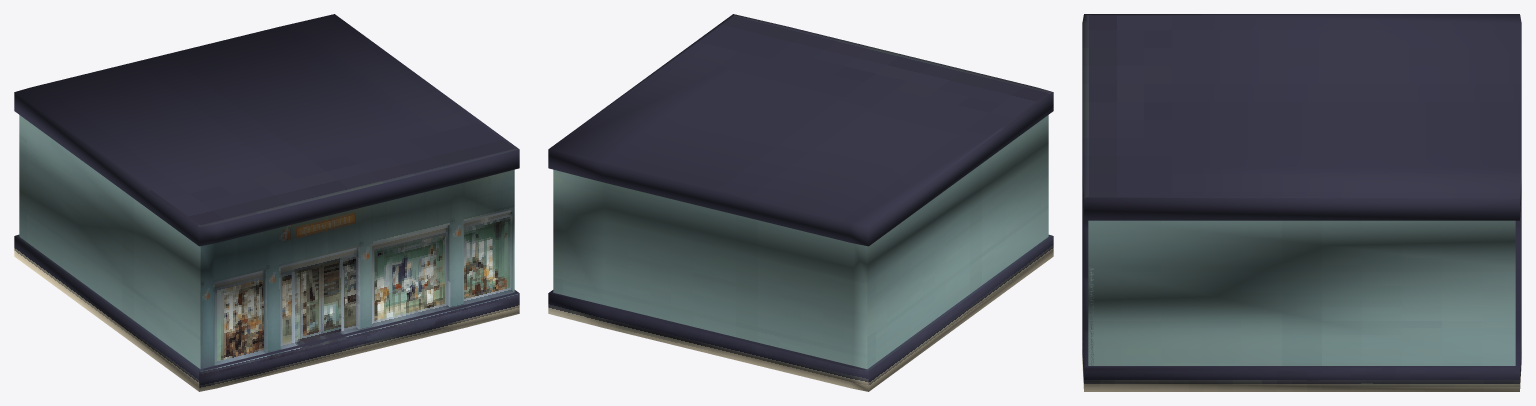
File: Store.glb
3 views of the same model, side by side, from view 1: azimuth 30°, elevation 25°; view 2: azimuth 150°, elevation 25°; view 3: azimuth 270°, elevation 25° (orthographic). The views are drawn at different scales.
Visible parts, largest first — view 1: Store; view 2: Store; view 3: Store.
Boxes of the visible parts, x1,y1,x2,y2 form: Store: [14, 14, 519, 391]; Store: [548, 14, 1053, 391]; Store: [1082, 14, 1521, 391].
Bounding box in the file's own units: 8.16 × 4 × 8.22.
1 material, 1 textured.
